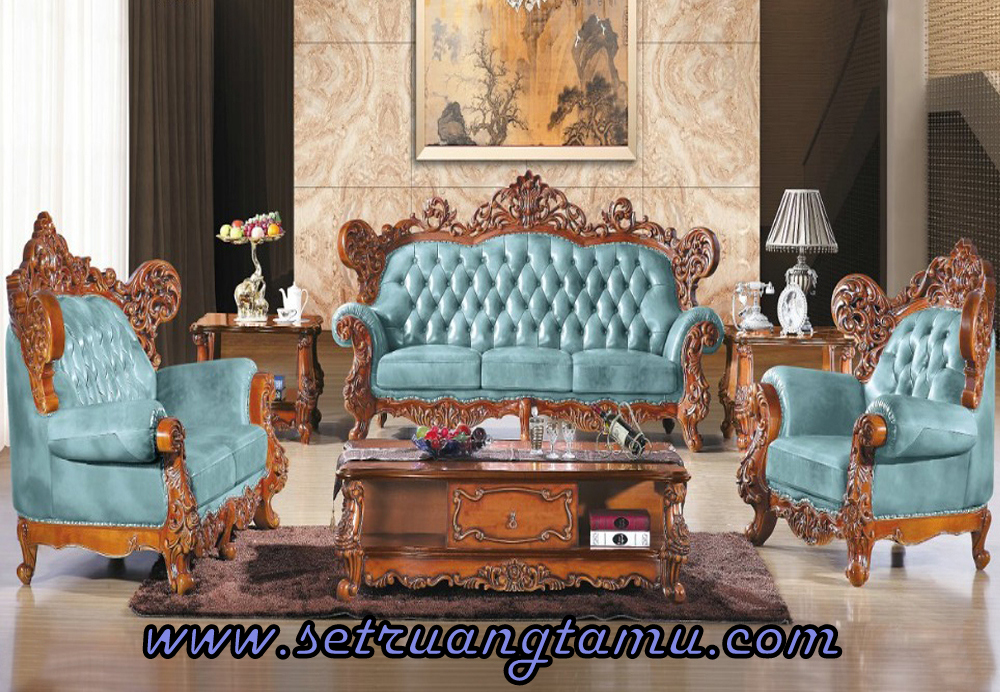Carving Chair: (14, 227, 297, 598), (344, 184, 715, 439), (743, 266, 1000, 570)
Carving Table: (319, 428, 699, 605)
